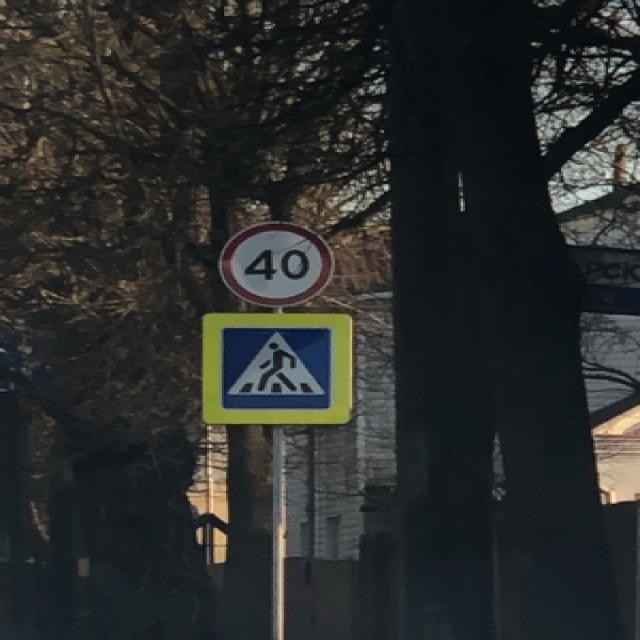crosswalk: (216, 323, 330, 410)
speedlimit: (216, 220, 326, 306)
